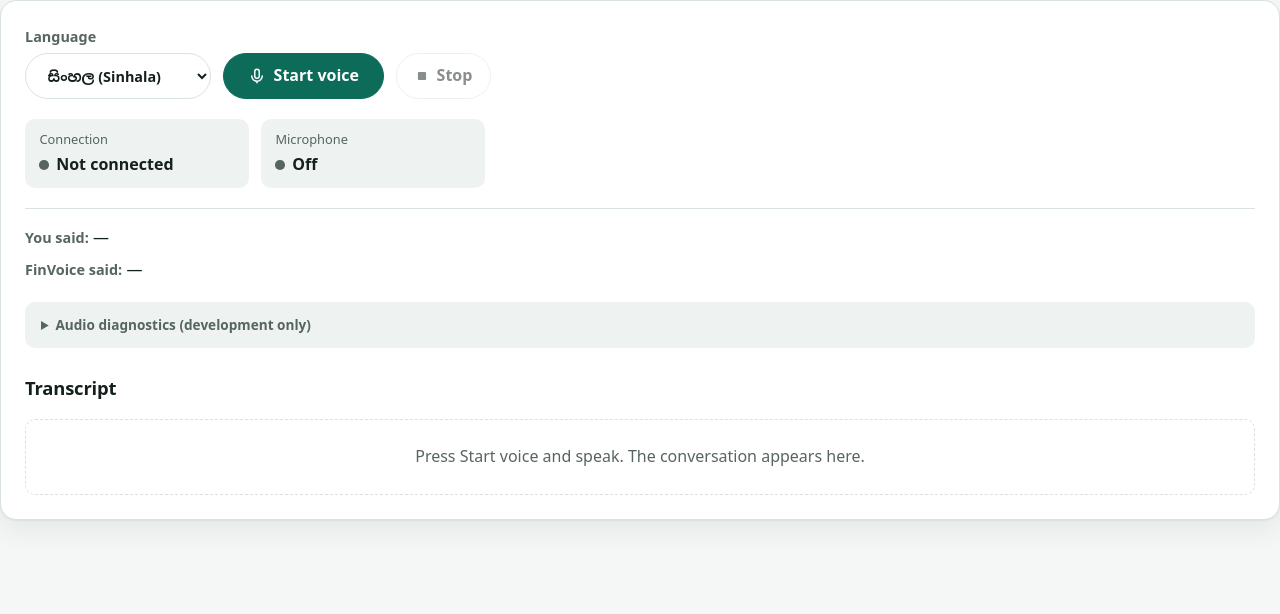
it: local barge-in › shows why an answer was ended
Click the button "Start voice". click: click(303, 76)
box: [223,53,384,99]
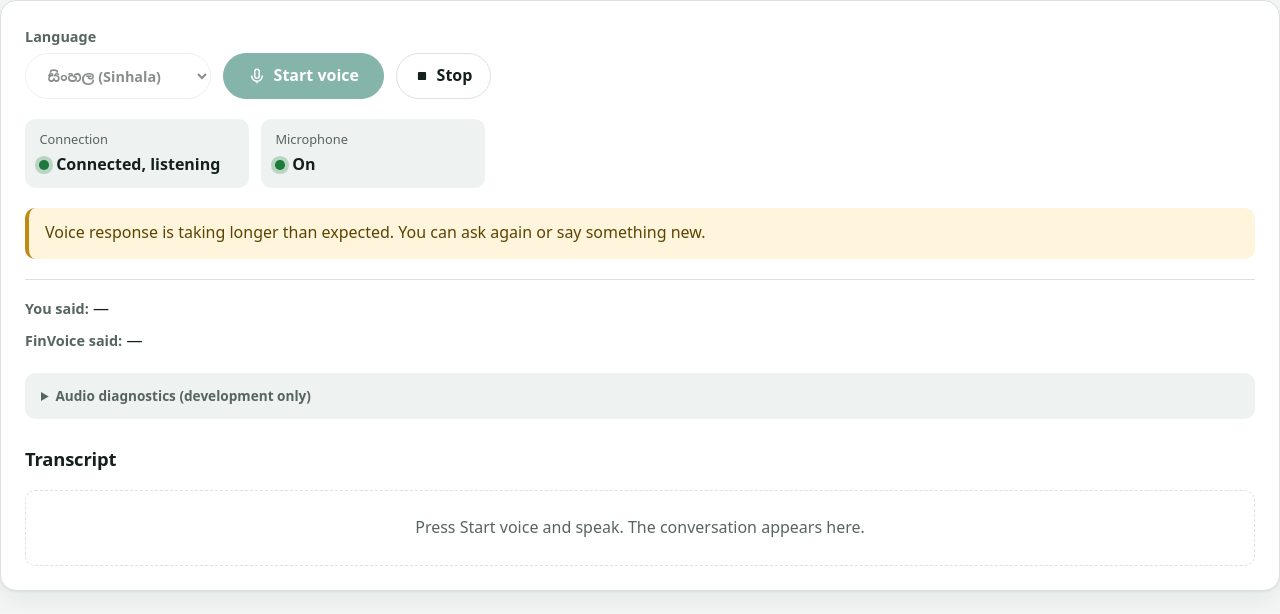
Now the message with test id "notice" shows "Voice response is taking longer than expected. You can ask again or say something new.", box [45,222,706,244]
